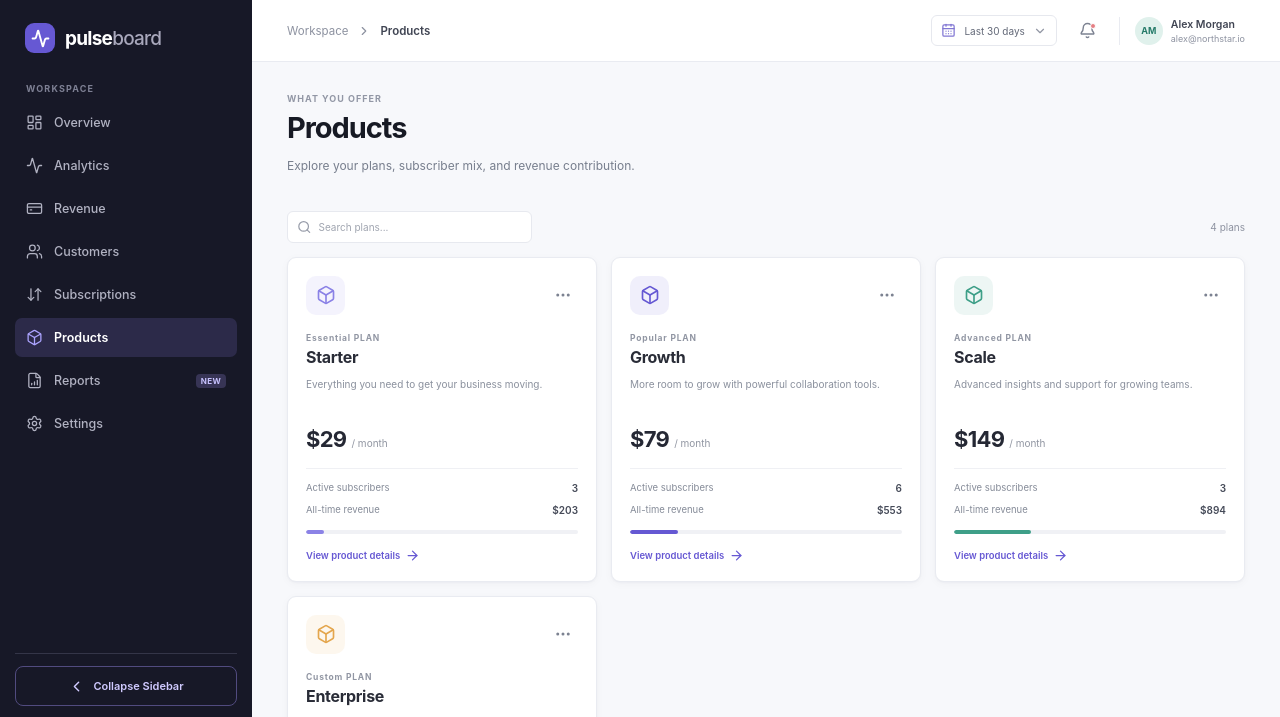
Test: PulseBoard application › opens transaction details from the revenue table
Click the link "Revenue" at (66, 208), box [26,200,106,217]
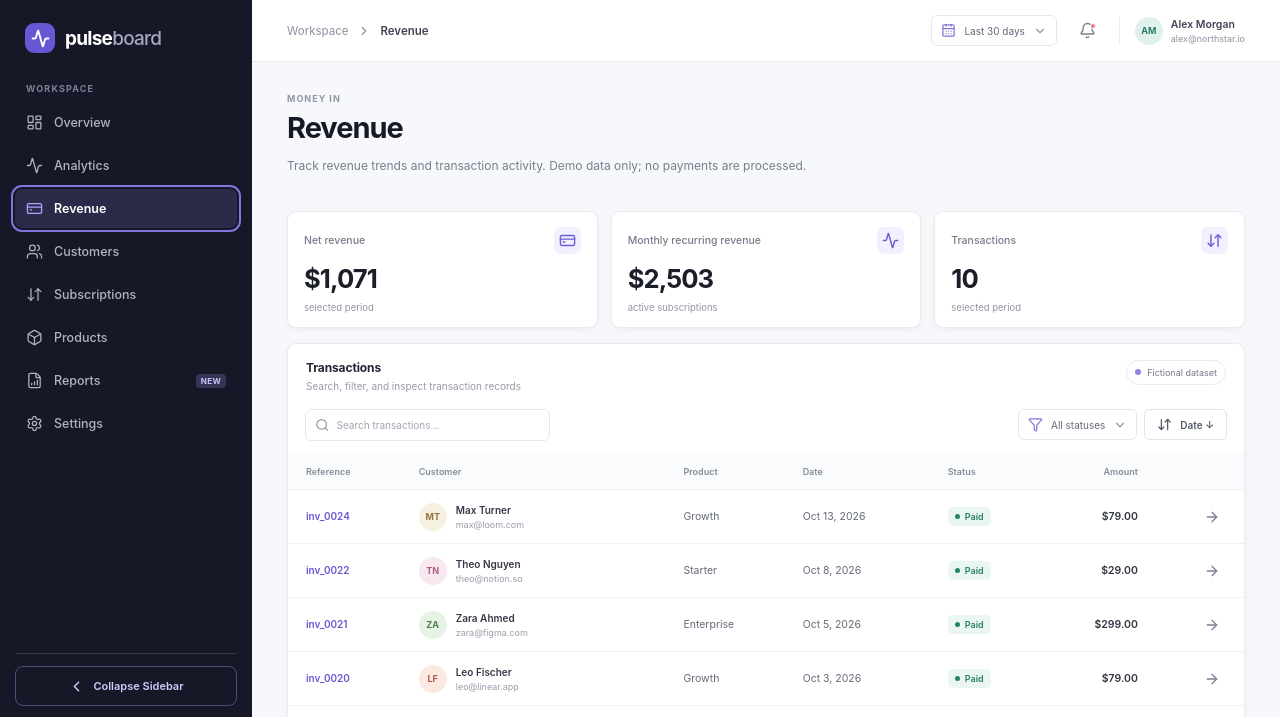
Click the button "inv_0024" at (328, 516), box [306,510,350,522]
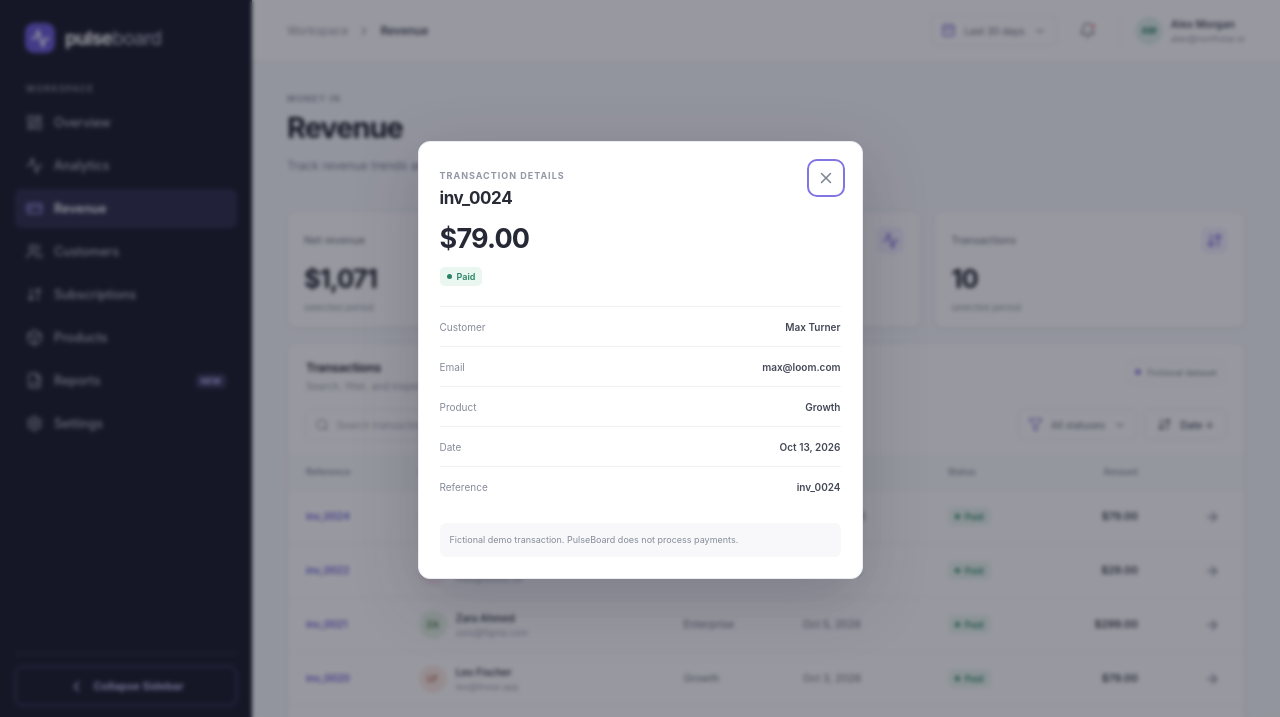
Expected: the dialog "inv_0024" is shown, [418,141,862,579]
Expected: the text "Fictional demo transaction" is shown, [450,534,738,545]
Press Escape
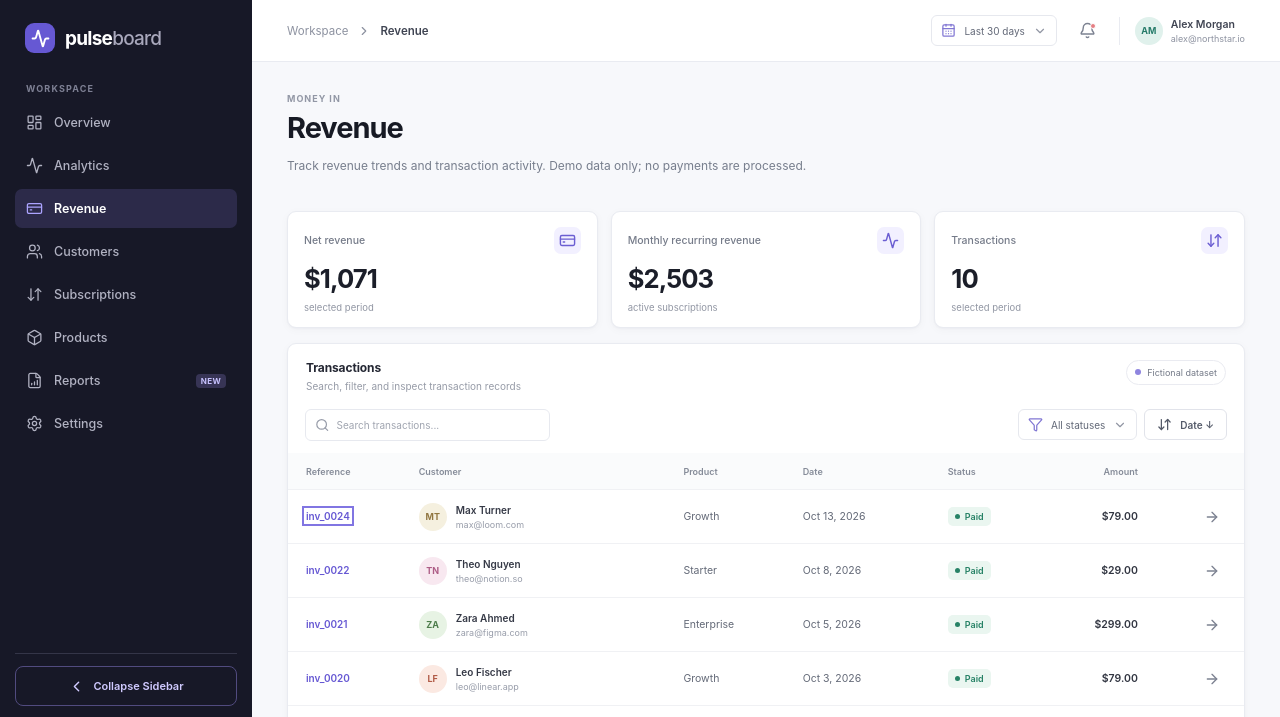
Expected: the dialog is gone
